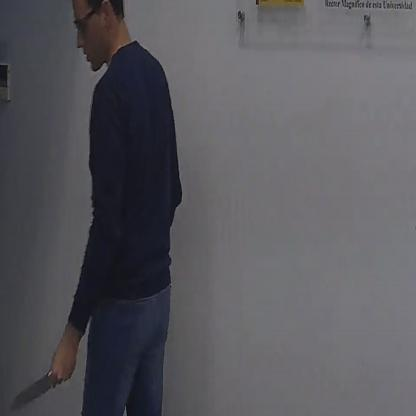knife: (6, 350, 70, 416)
